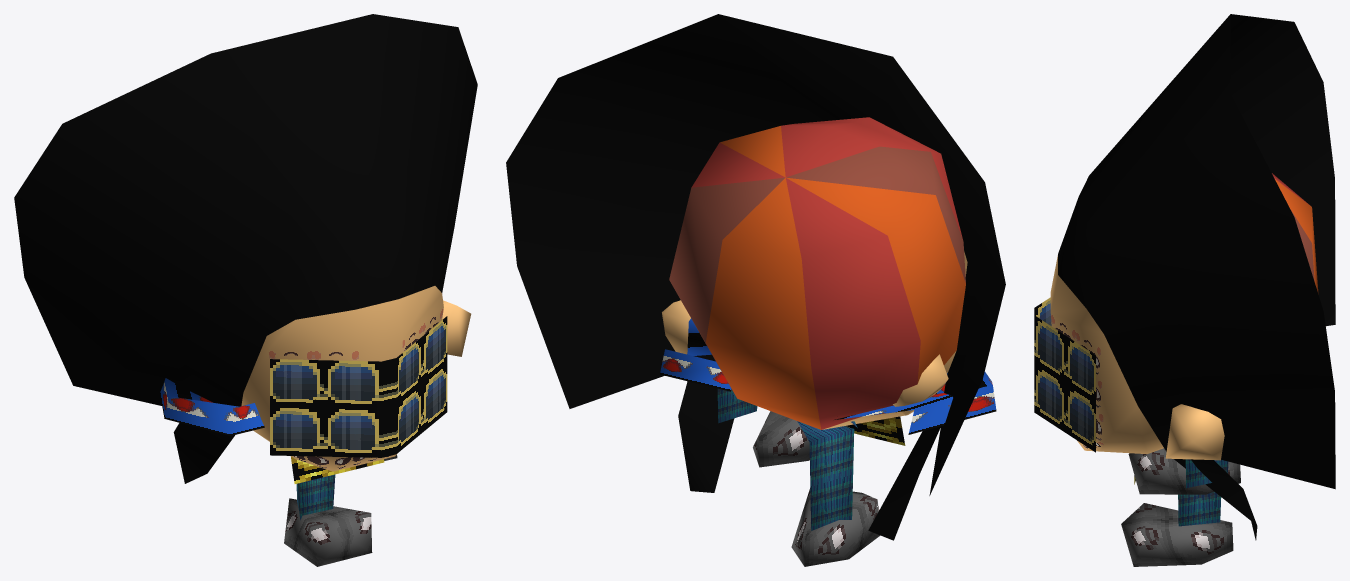
The picture shows the model from 3 angles, left to right: view 1: azimuth 30°, elevation 25°; view 2: azimuth 150°, elevation 25°; view 3: azimuth 270°, elevation 25°; orthographic projection. The views are drawn at different scales.
Visible parts, largest first — view 1: pmd05_00_02; view 2: pmd05_00_02; view 3: pmd05_00_02.
Part boxes in pixels (box(x1,y1,x2,y2)): pmd05_00_02: box(14, 14, 477, 566); pmd05_00_02: box(506, 14, 1005, 566); pmd05_00_02: box(1034, 14, 1335, 566).
Size of the model in its own units: 1.7 by 1.73 by 0.9495.
9 materials, 9 textured.
